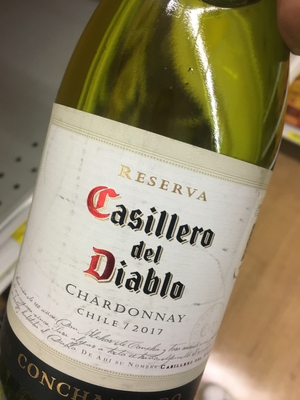casillero del diablo chardonnay: (19, 7, 280, 400)
